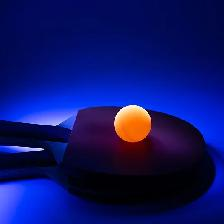YellowBall: (114, 104, 150, 142)
